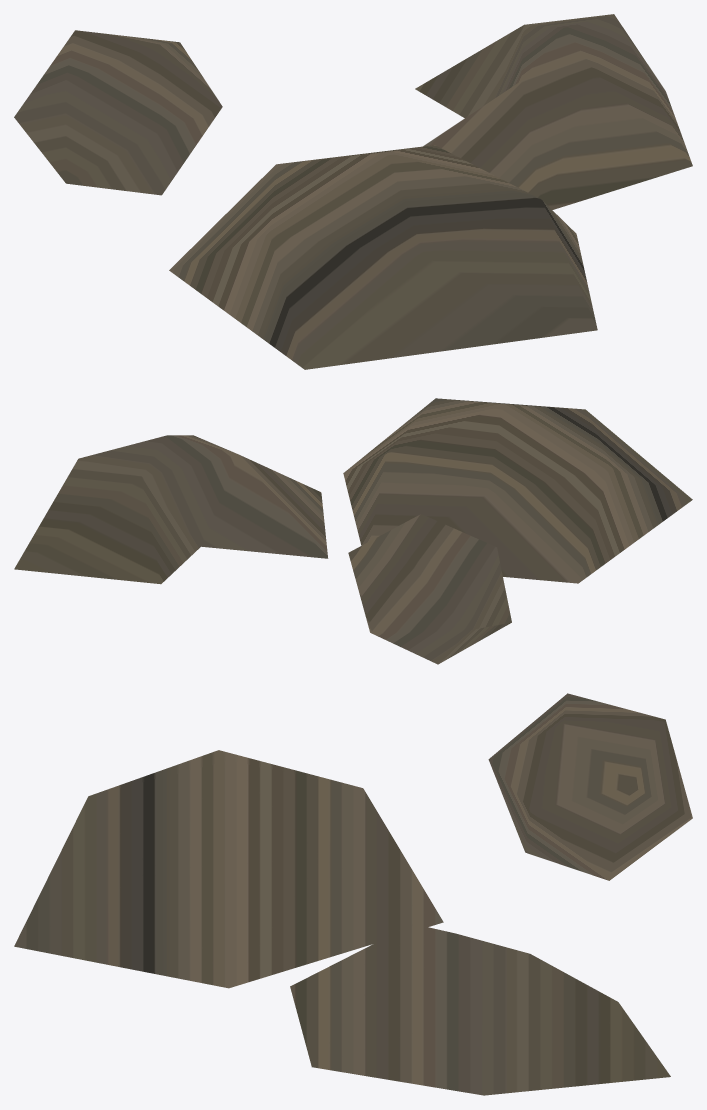
The model's file is rock_gclump1_hdtex.glb.
The picture shows the model from 3 angles, top to bottom: view 1: azimuth 30°, elevation 25°; view 2: azimuth 150°, elevation 25°; view 3: azimuth 270°, elevation 25°; orthographic projection. The views are drawn at different scales.
Parts seen in each view (by area): view 1: Rock_GClump1; view 2: Rock_GClump1; view 3: Rock_GClump1.
Boxes of the visible parts, bbox=[...] form: Rock_GClump1: bbox=[14, 14, 692, 369]; Rock_GClump1: bbox=[14, 398, 692, 664]; Rock_GClump1: bbox=[14, 693, 692, 1095].
Bounding box in the file's own units: 23.2 × 5.67 × 23.25.
1 material, 1 textured.
